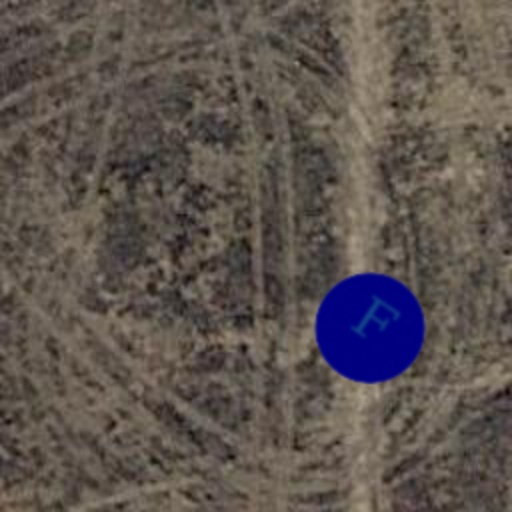circle: (292, 250, 448, 406)
